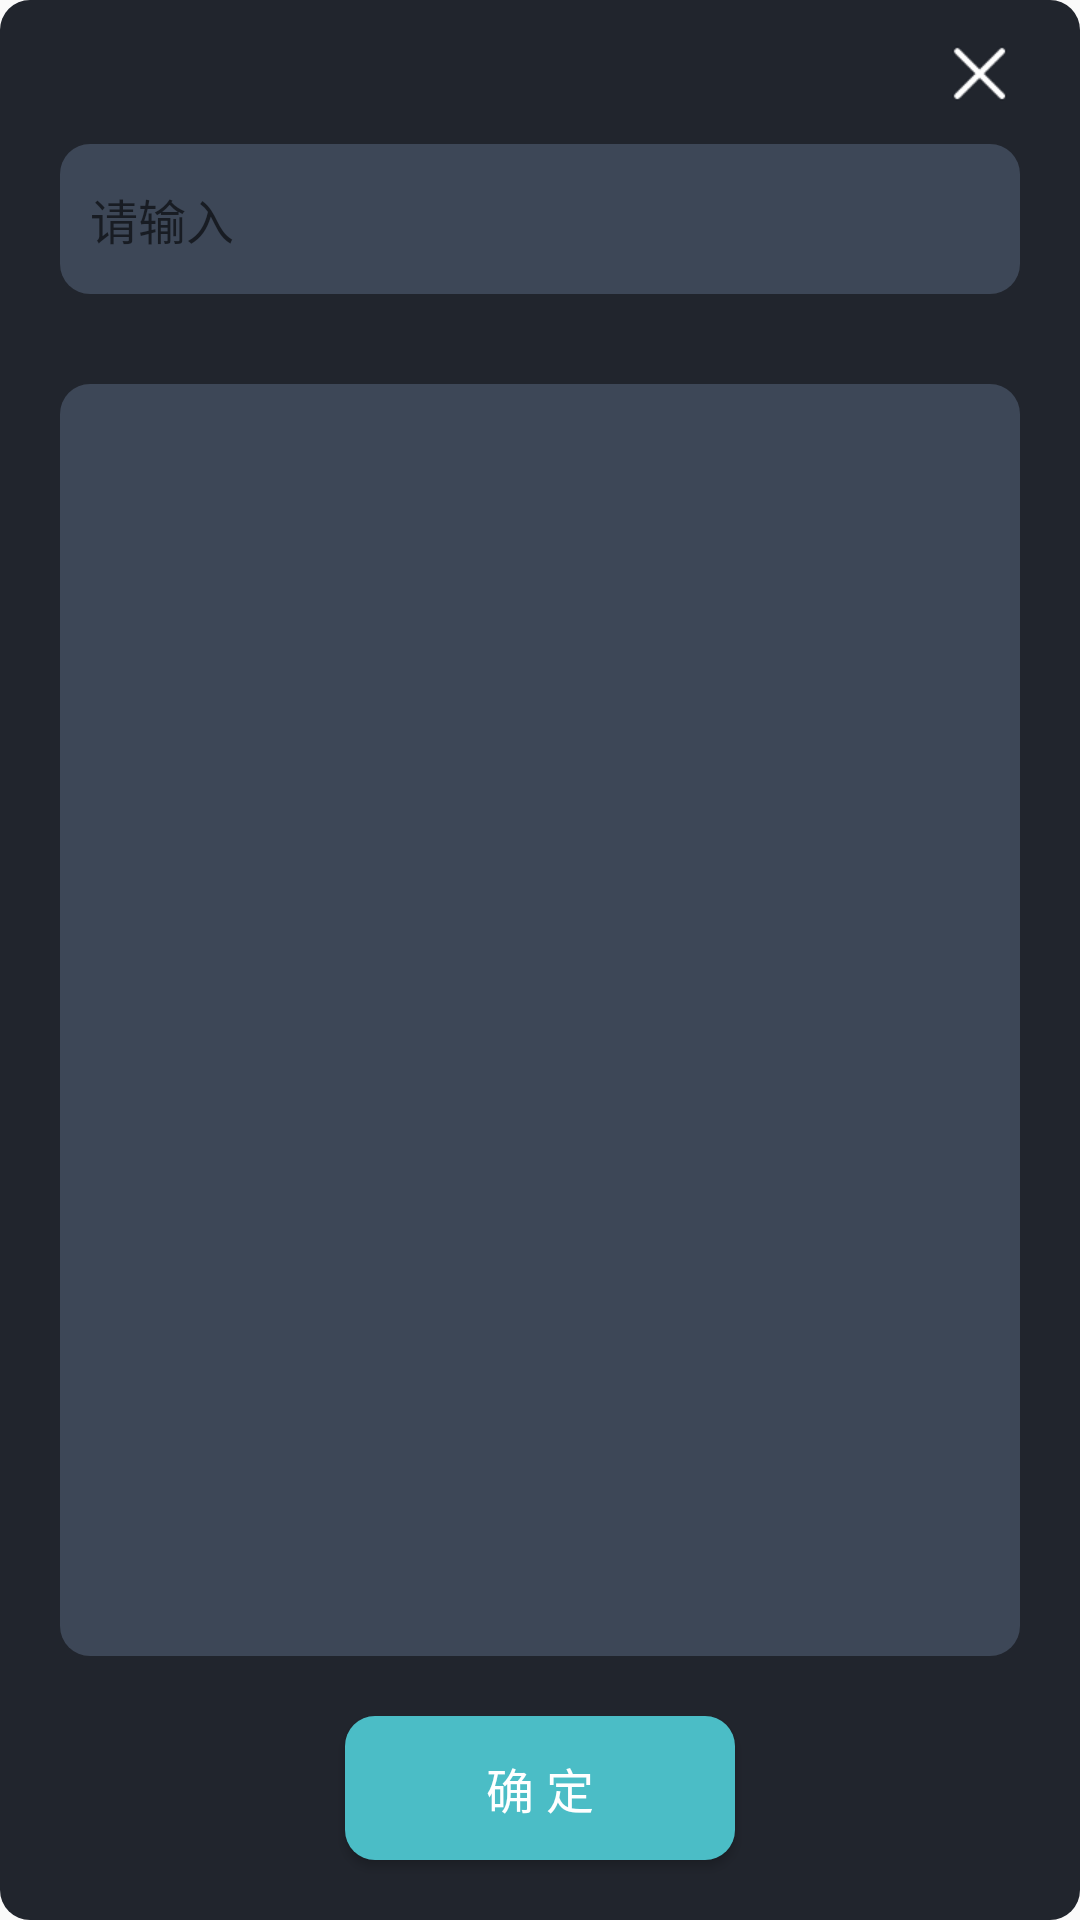

Icon click points for this 1080 × 1920 phone screenshot, format (x,y):
关闭: (980,74)
